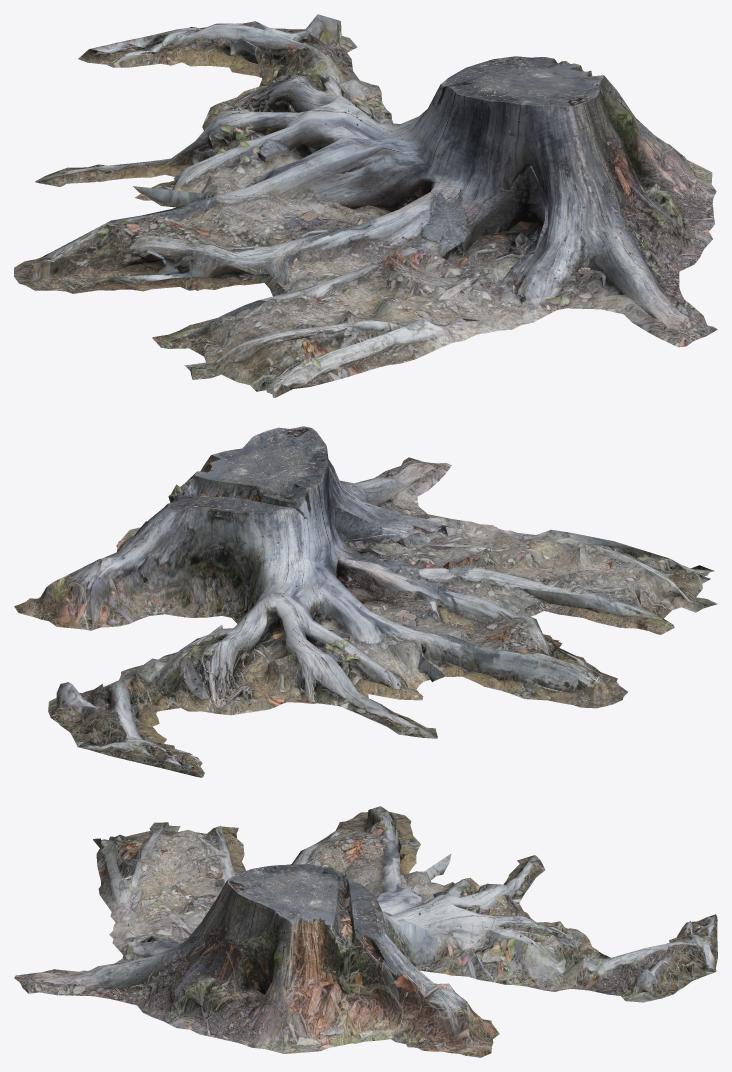
The model's file is sm_TreeStump_02_02.fbx.
3 renders of one model, top to bottom at view 1: azimuth 30°, elevation 25°; view 2: azimuth 150°, elevation 25°; view 3: azimuth 270°, elevation 25°, orthographic. The views are drawn at different scales.
Parts seen in each view (by area): view 1: sm_TreeStump_02_02_LOD0; view 2: sm_TreeStump_02_02_LOD0; view 3: sm_TreeStump_02_02_LOD0.
Boxes of the visible parts, bbox=[...] form: sm_TreeStump_02_02_LOD0: bbox=[14, 14, 717, 397]; sm_TreeStump_02_02_LOD0: bbox=[14, 426, 717, 777]; sm_TreeStump_02_02_LOD0: bbox=[14, 806, 717, 1057].
Size of the model in its own units: 165 by 199 by 35.3.
